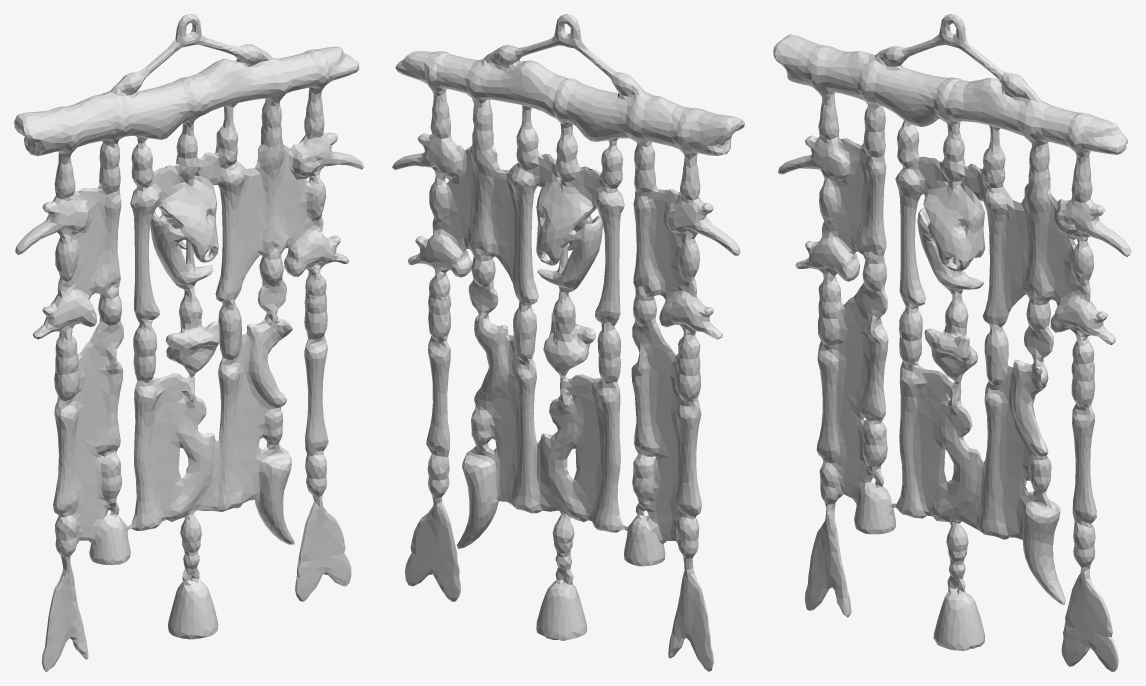
File: nec_bone_chime01.glb
3 views of the same model, side by side, from view 1: azimuth 30°, elevation 25°; view 2: azimuth 150°, elevation 25°; view 3: azimuth 330°, elevation 25° (orthographic).
Visible parts, largest first — view 1: Low; view 2: Low; view 3: Low.
Part boxes in pixels (<box>): Low: <box>14,14,363,671</box>; Low: <box>392,14,744,671</box>; Low: <box>773,14,1131,671</box>.
Size of the model in its own units: 1.15 by 1.99 by 0.1631.
Materials: 1 (1 with a texture image).
